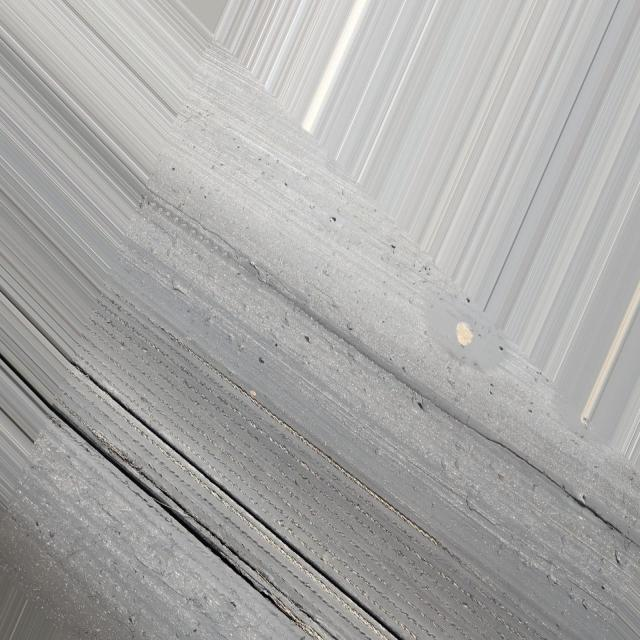Tear: (238, 263, 622, 535), (86, 367, 405, 640), (56, 415, 305, 638)
